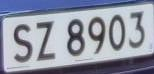0: (106, 9, 129, 57)
3: (128, 6, 148, 56)
8: (64, 12, 88, 63)
9: (86, 11, 109, 60)
S: (10, 19, 36, 68)
Z: (33, 16, 58, 67)
